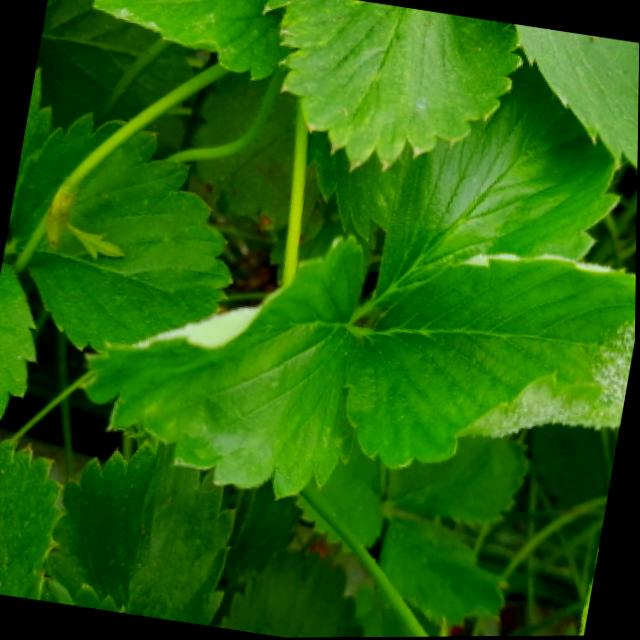Powdery Mildew Leaf: (82, 236, 369, 500), (342, 252, 637, 473), (89, 0, 296, 80)
